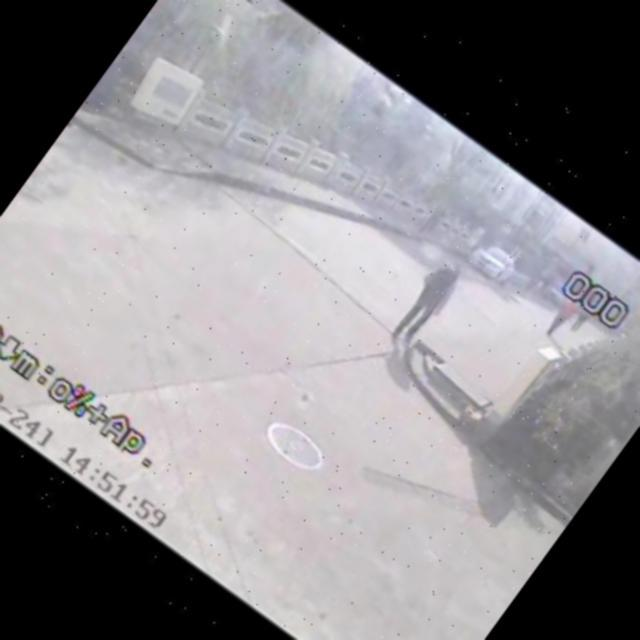person: (383, 252, 469, 352), (409, 198, 458, 252), (536, 292, 582, 344), (566, 308, 594, 338)
